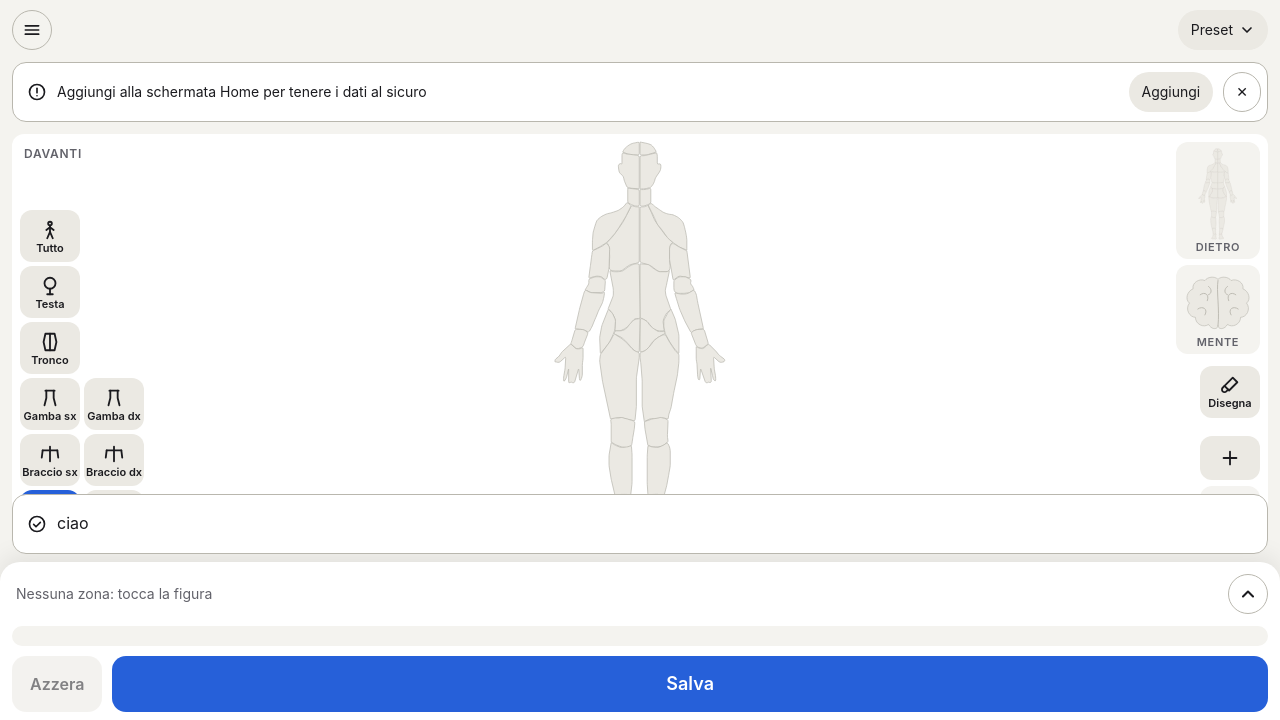
Test: Navigation (#37) › a toast does not follow to another screen
This screenshot has width=1280, height=720.
Expected: the text "ciao" is shown, top-left (57, 513), bottom-right (89, 533)
Click the button named "Menu": (32, 30) top-left (12, 10), bottom-right (52, 50)
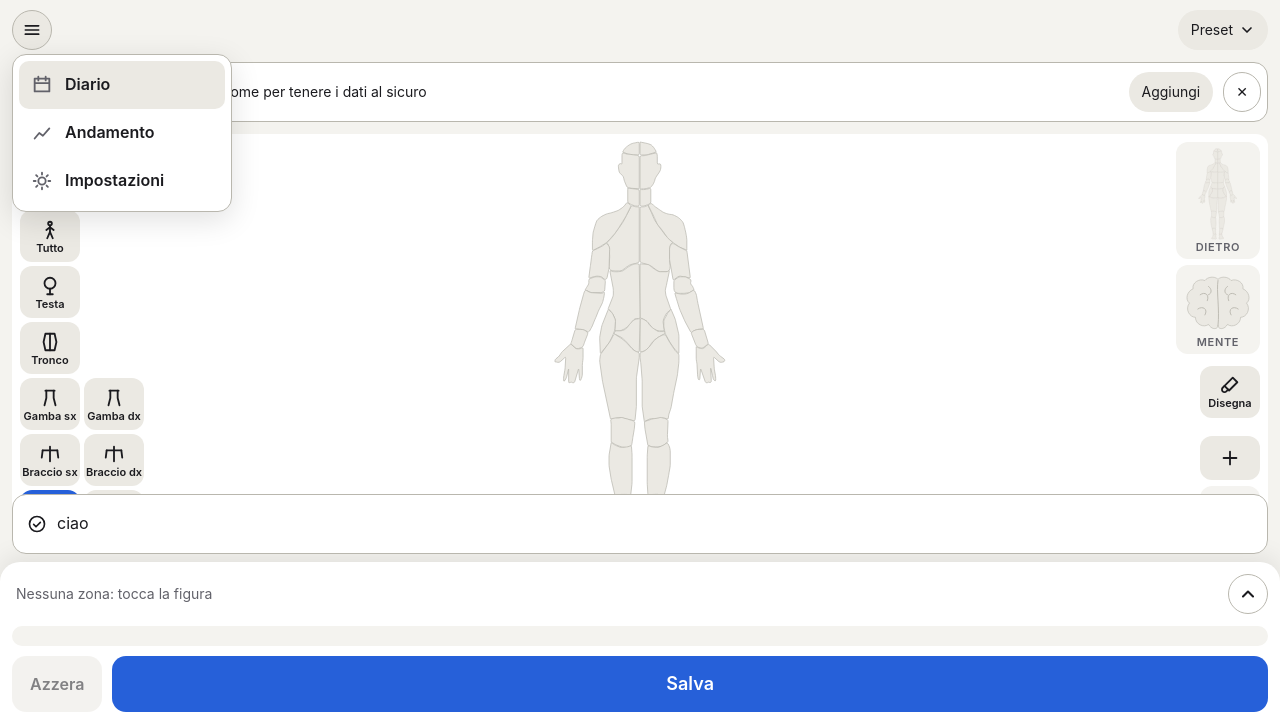
Click the menu item "Diario": (122, 85) top-left (19, 61), bottom-right (225, 109)
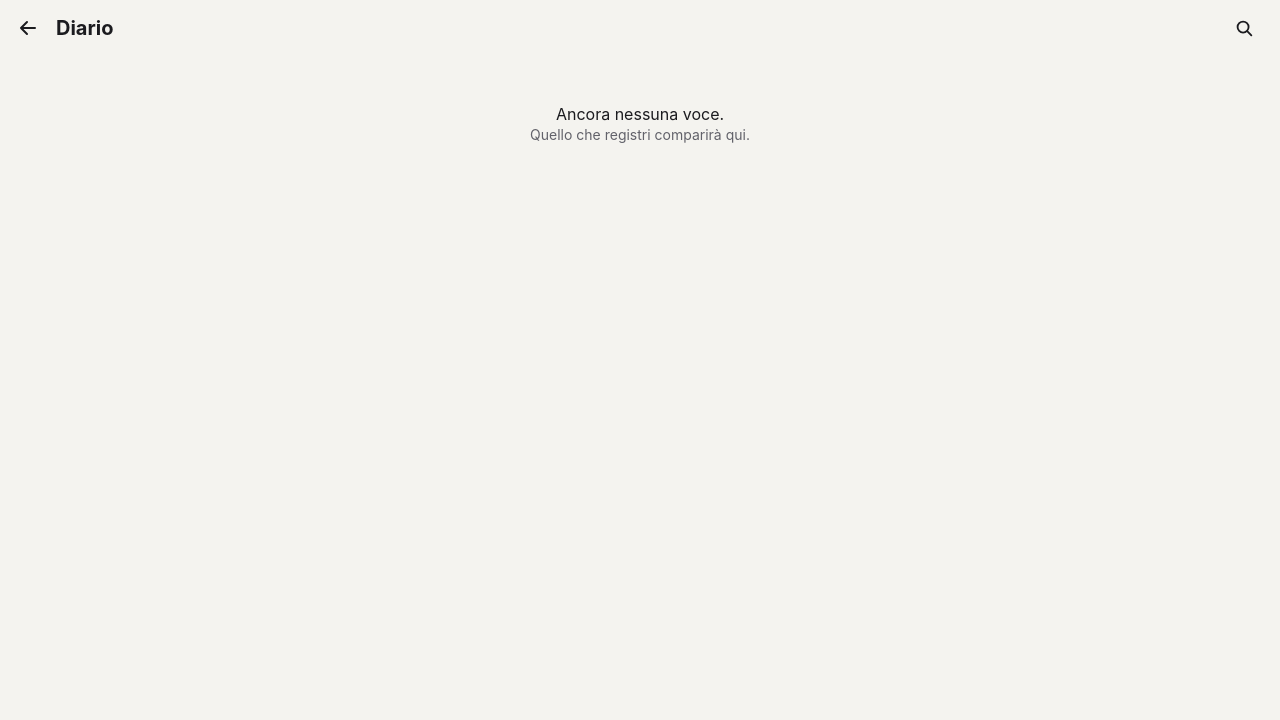
Now the text "ciao" is gone
